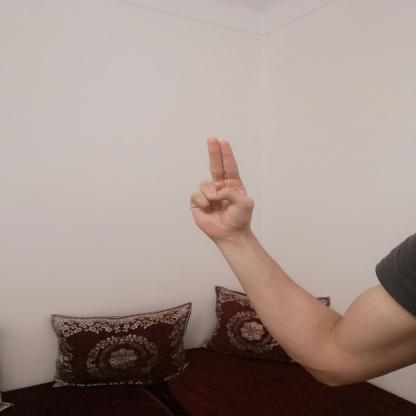TA: (180, 130, 266, 244)
